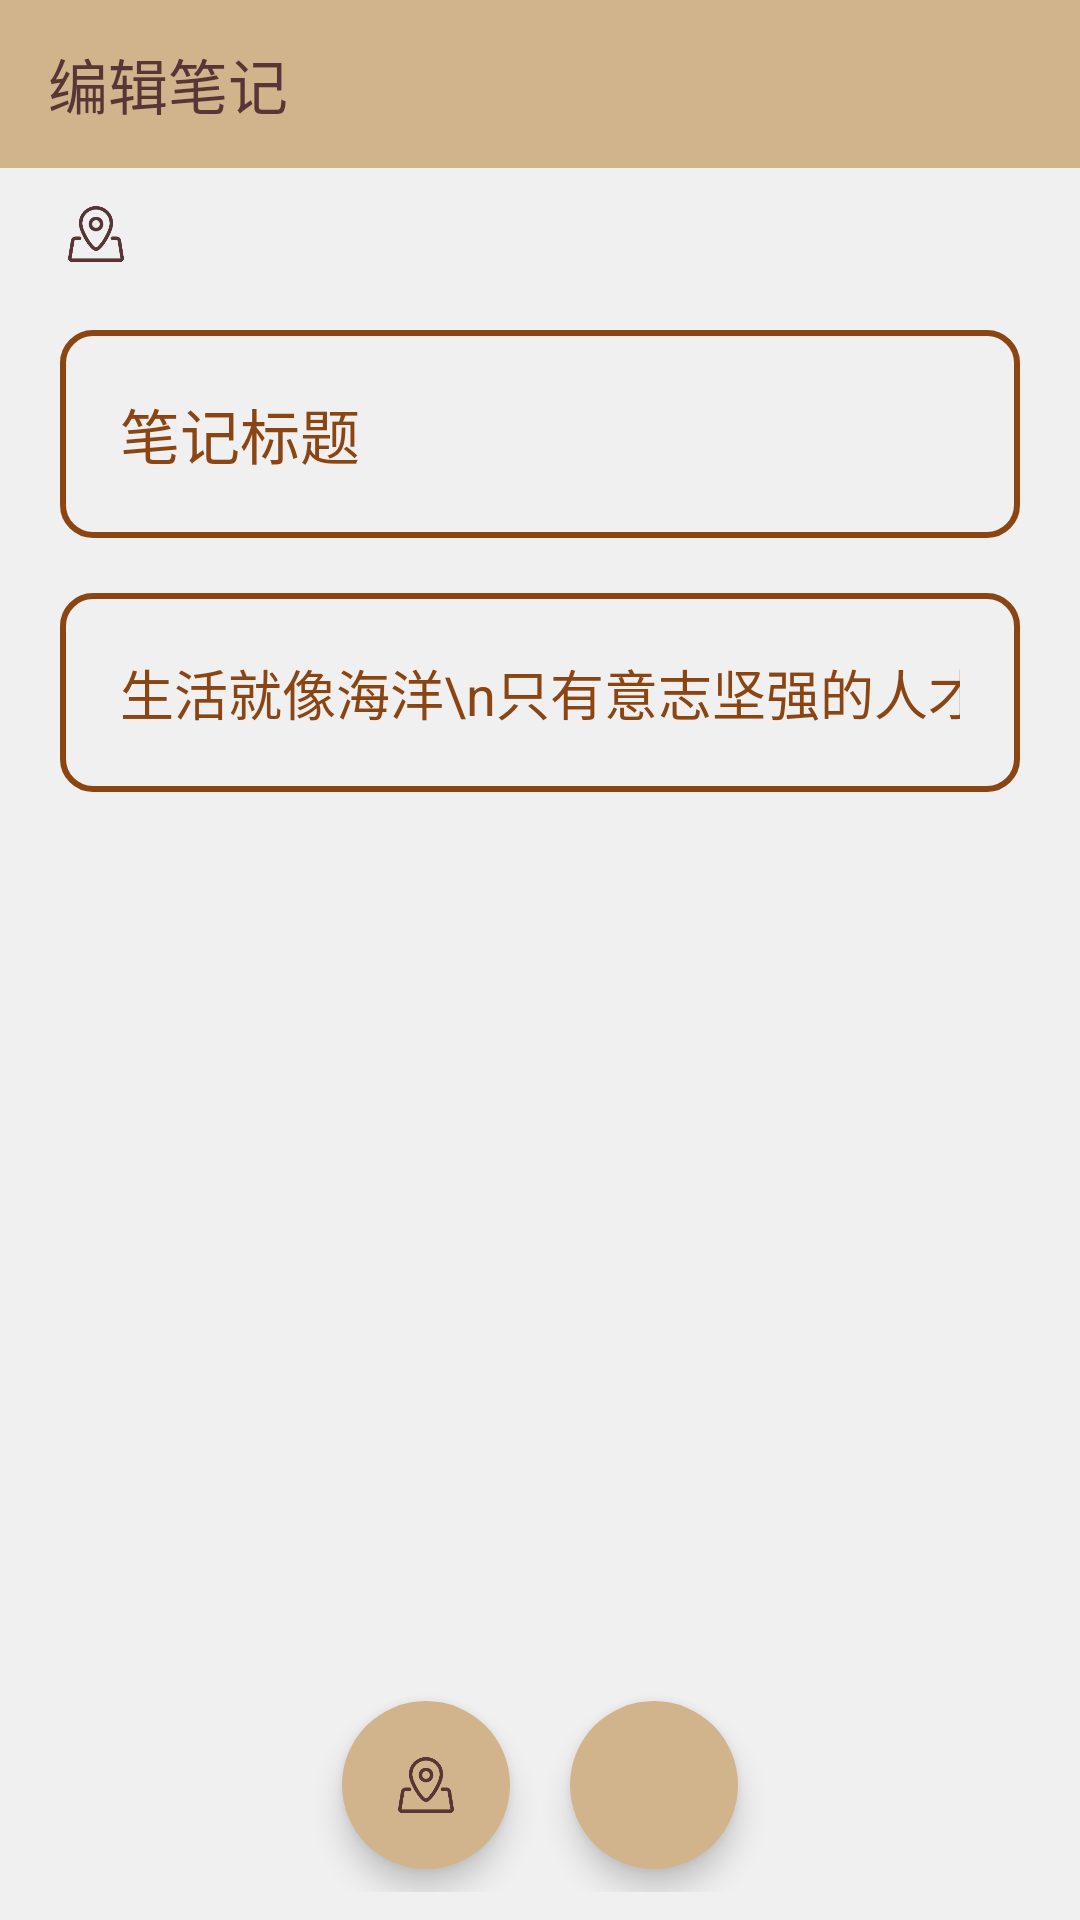

Icon click points for this 1080×1920 phone screenshot, format (x=x, y=y):
location: (x=96, y=234), (x=426, y=1785)
